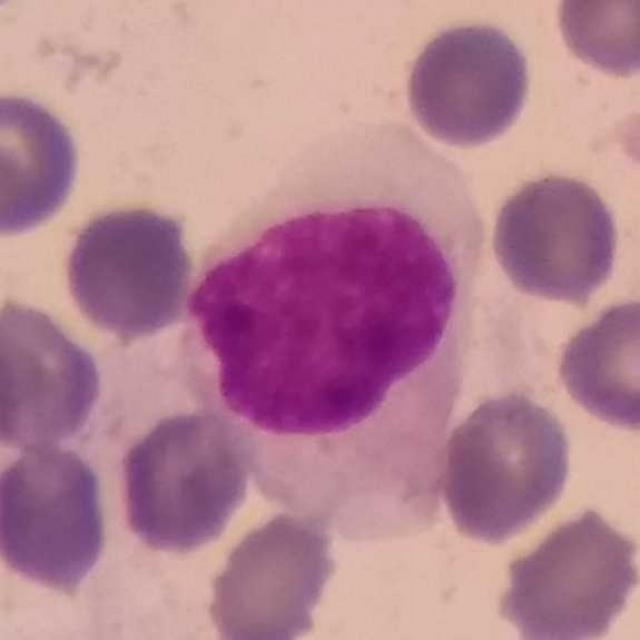Monocyte: (185, 112, 493, 547)
RBC: (434, 386, 578, 548), (111, 404, 256, 557), (488, 500, 640, 640), (58, 197, 199, 341), (486, 167, 626, 306), (200, 506, 343, 640), (399, 16, 536, 152), (0, 440, 116, 596), (0, 292, 108, 454), (0, 85, 87, 242), (551, 292, 640, 435), (0, 552, 109, 639), (551, 0, 640, 81), (0, 306, 23, 472)
